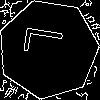L: (23, 24, 73, 59)
